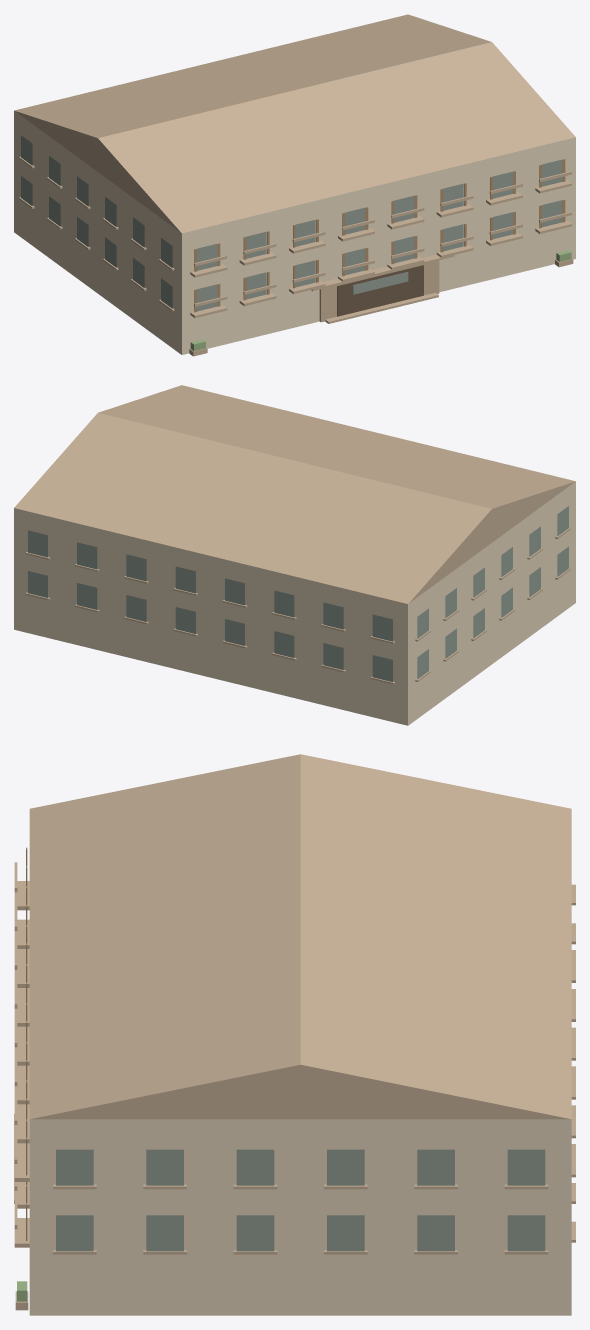
Rendered from residential_4x3_a.glb.
The picture shows the model from 3 angles, top to bottom: view 1: azimuth 30°, elevation 25°; view 2: azimuth 150°, elevation 25°; view 3: azimuth 270°, elevation 25°; orthographic projection. The views are drawn at different scales.
Parts seen in each view (by area): view 1: residential_4x3_a_0; view 2: residential_4x3_a_0; view 3: residential_4x3_a_0.
Boxes of the visible parts, bbox=[...] form: residential_4x3_a_0: bbox=[14, 14, 575, 356]; residential_4x3_a_0: bbox=[14, 385, 575, 725]; residential_4x3_a_0: bbox=[14, 754, 575, 1315].
Size of the model in its own units: 30.86 by 11.5 by 23.33.
